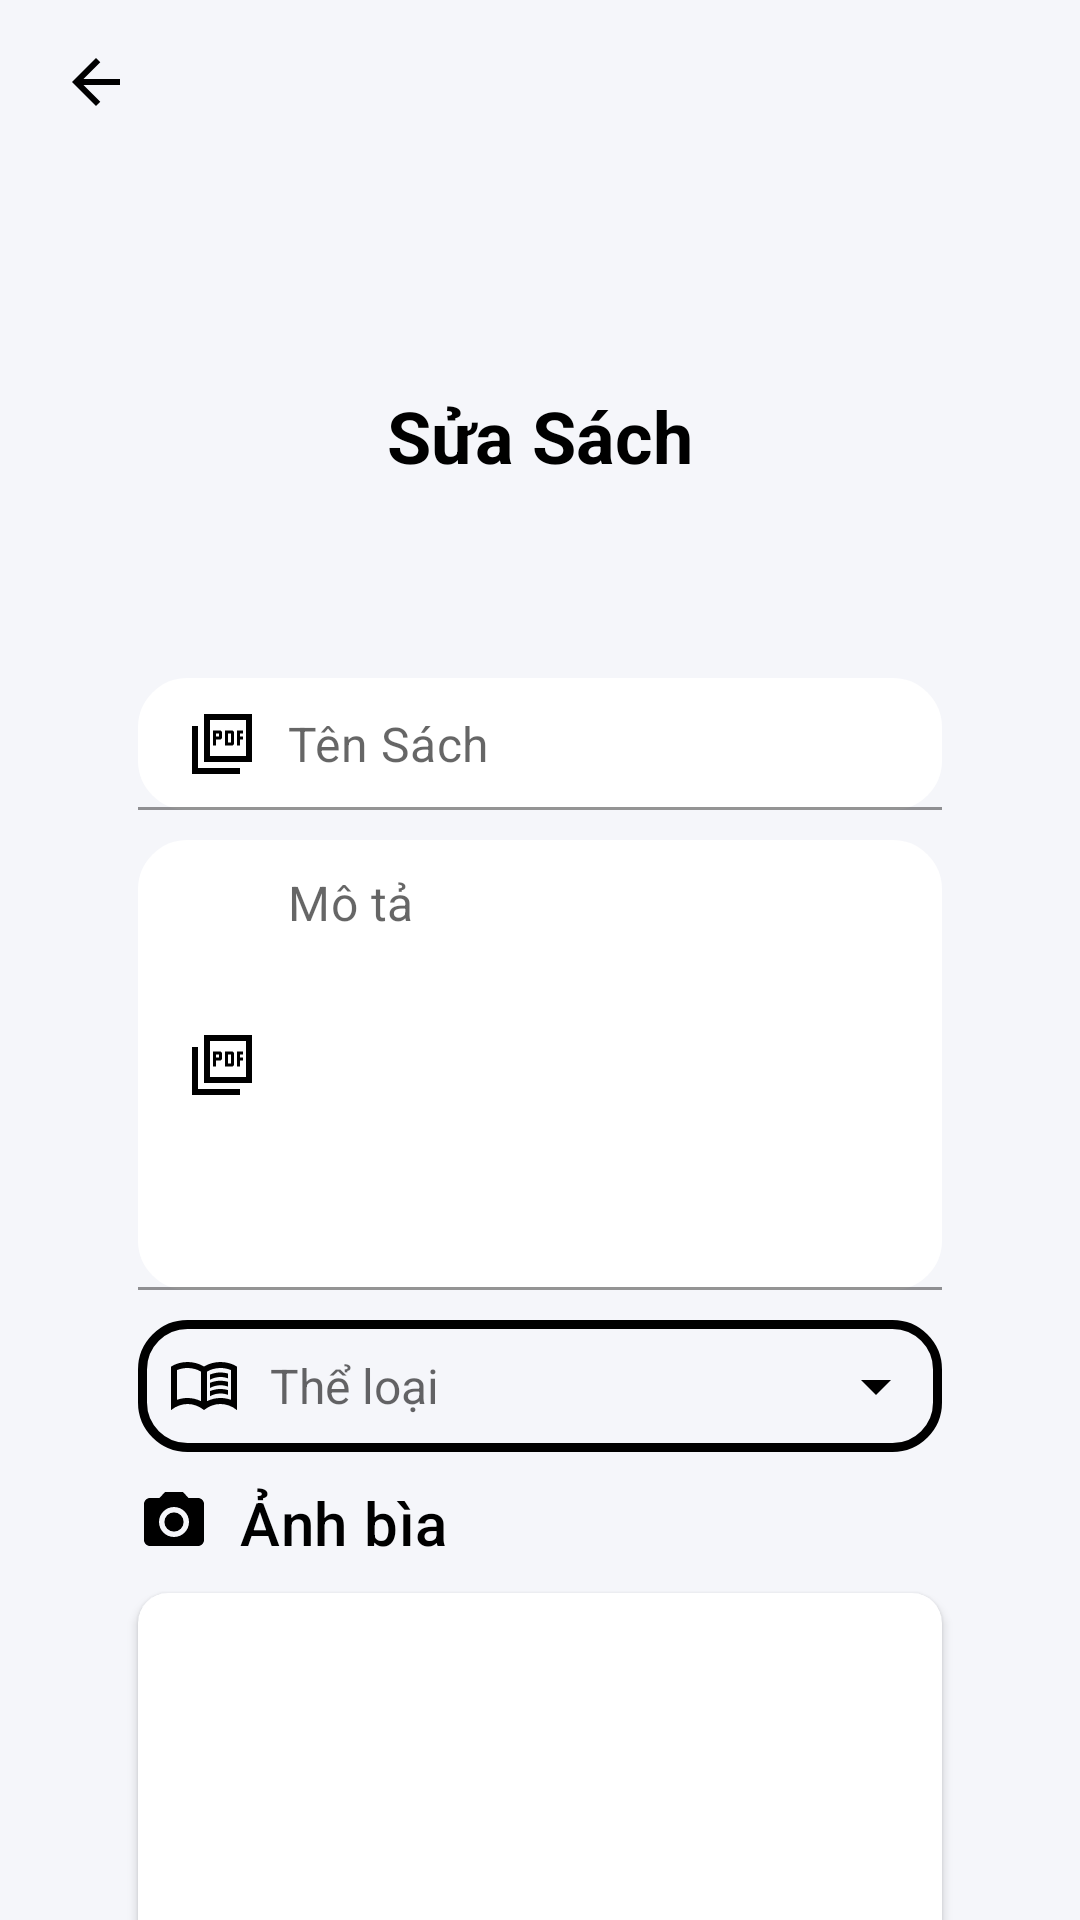

Screen size 1080 × 1920. Icon name, then its center in pixels as (x=x, y=y):
Back button: (x=96, y=82)
